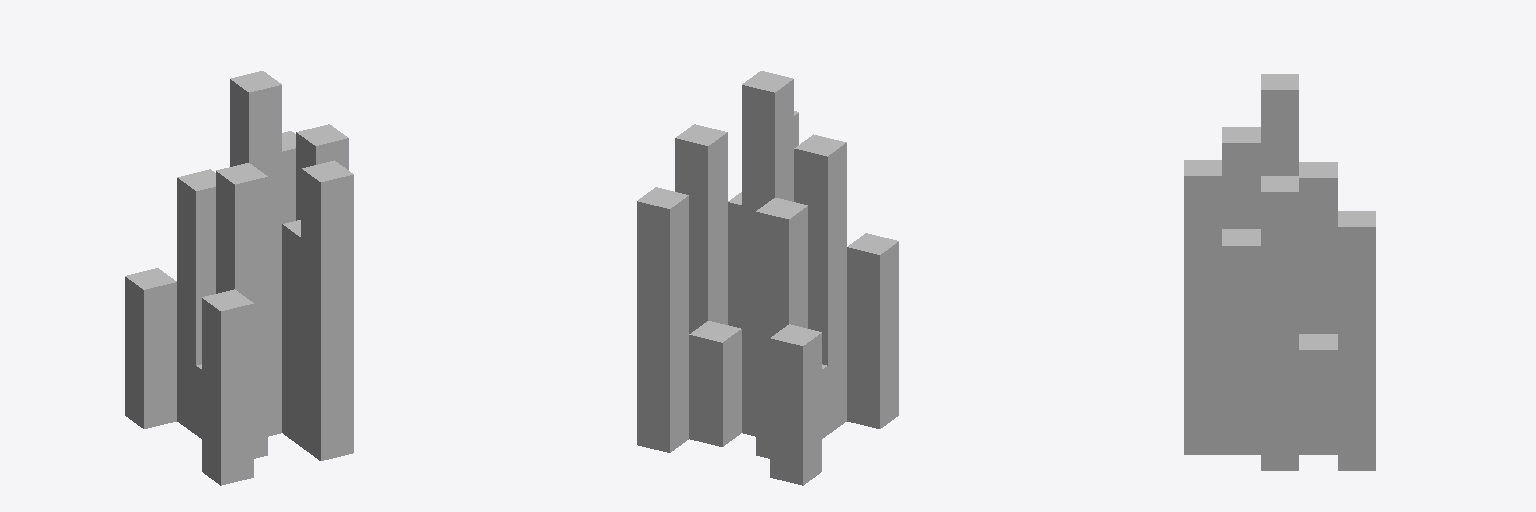
The model's file is Grass2.obj.
3 views of the same model, side by side, from view 1: azimuth 30°, elevation 25°; view 2: azimuth 150°, elevation 25°; view 3: azimuth 270°, elevation 25° (orthographic).
Visible parts, largest first — view 1: object 1; view 2: object 1; view 3: object 1.
Boxes of the visible parts, box(x1,y1,x2,y2) form: object 1: box(125, 71, 353, 485); object 1: box(637, 71, 898, 485); object 1: box(1184, 74, 1375, 470).
Bounding box in the file's own units: 0.5 × 1 × 0.5.